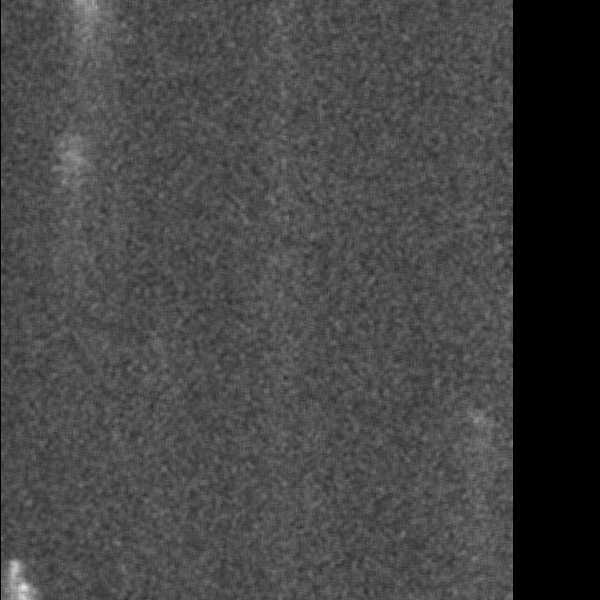spark: (53, 131, 90, 198), (464, 407, 493, 435)
